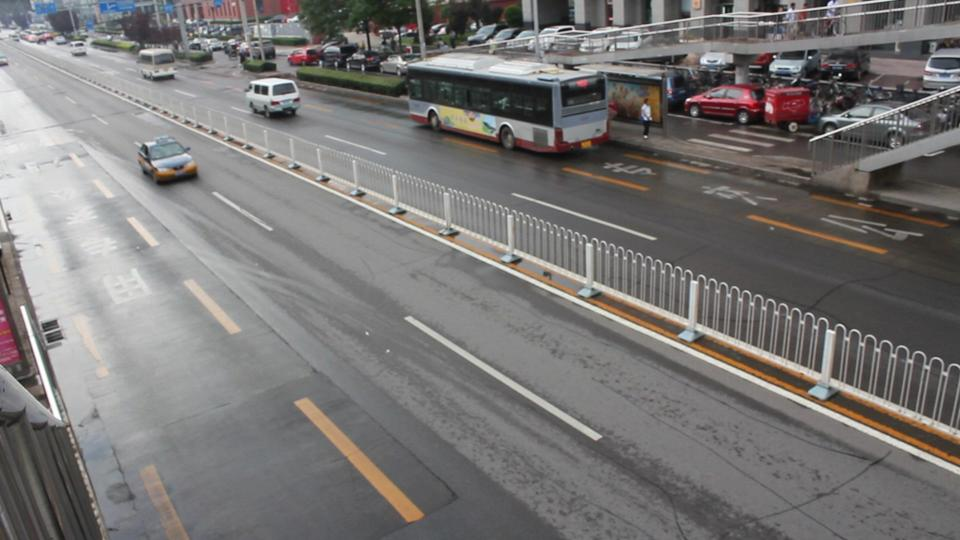bus: (405, 51, 612, 155), (137, 48, 178, 80)
car: (816, 99, 945, 149), (684, 83, 794, 126), (135, 135, 199, 185), (813, 104, 900, 132), (245, 77, 304, 117), (923, 45, 960, 89), (768, 49, 821, 79), (379, 54, 422, 76), (488, 27, 536, 44), (286, 48, 323, 66), (467, 25, 500, 45), (19, 31, 51, 42), (70, 41, 87, 56), (0, 52, 10, 66)
person: (639, 101, 654, 138)
